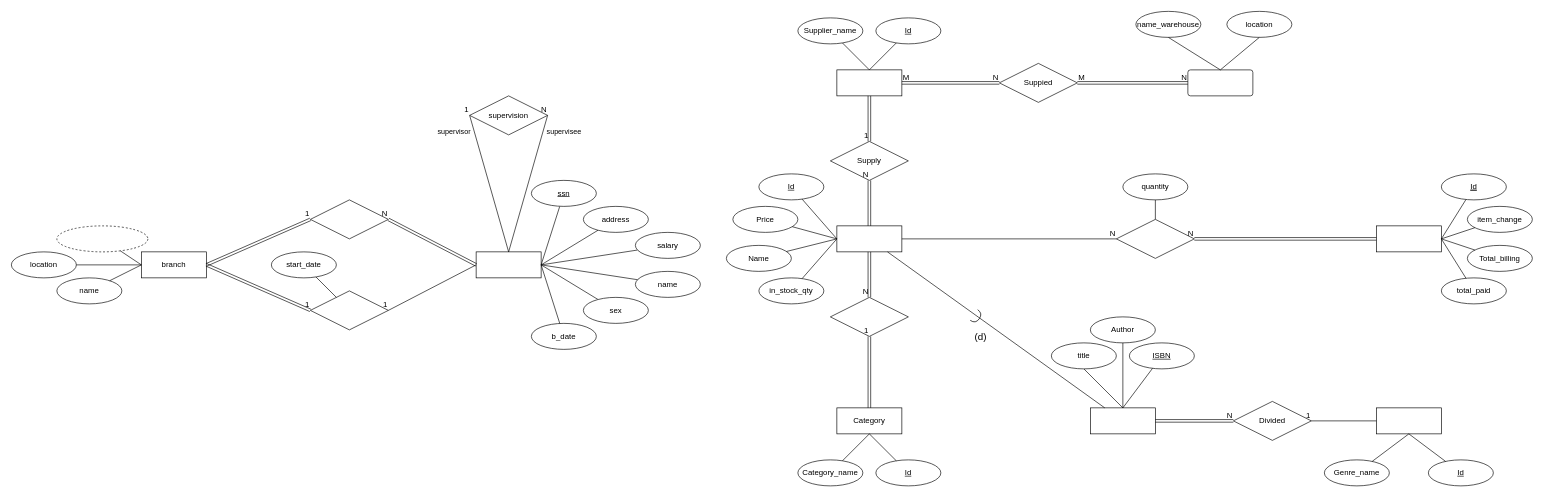
This 1544x497 diagram has some shape labels left out. The box of each missing label's shape, as (x1, y1, x2, y2) in pixels:
Book_catalouge: (1090, 407, 1155, 434)
Categorized: (830, 297, 908, 336)
Check_out: (1116, 219, 1194, 258)
employee: (475, 251, 541, 278)
Genre: (1376, 407, 1441, 434)
Item: (836, 225, 902, 252)
manages: (310, 290, 388, 330)
nunber_of_employees: (56, 225, 148, 252)
Receipt: (1376, 225, 1441, 252)
Supplier: (836, 69, 902, 96)
Warehouse: (1187, 69, 1253, 96)
works_for: (310, 199, 388, 239)
